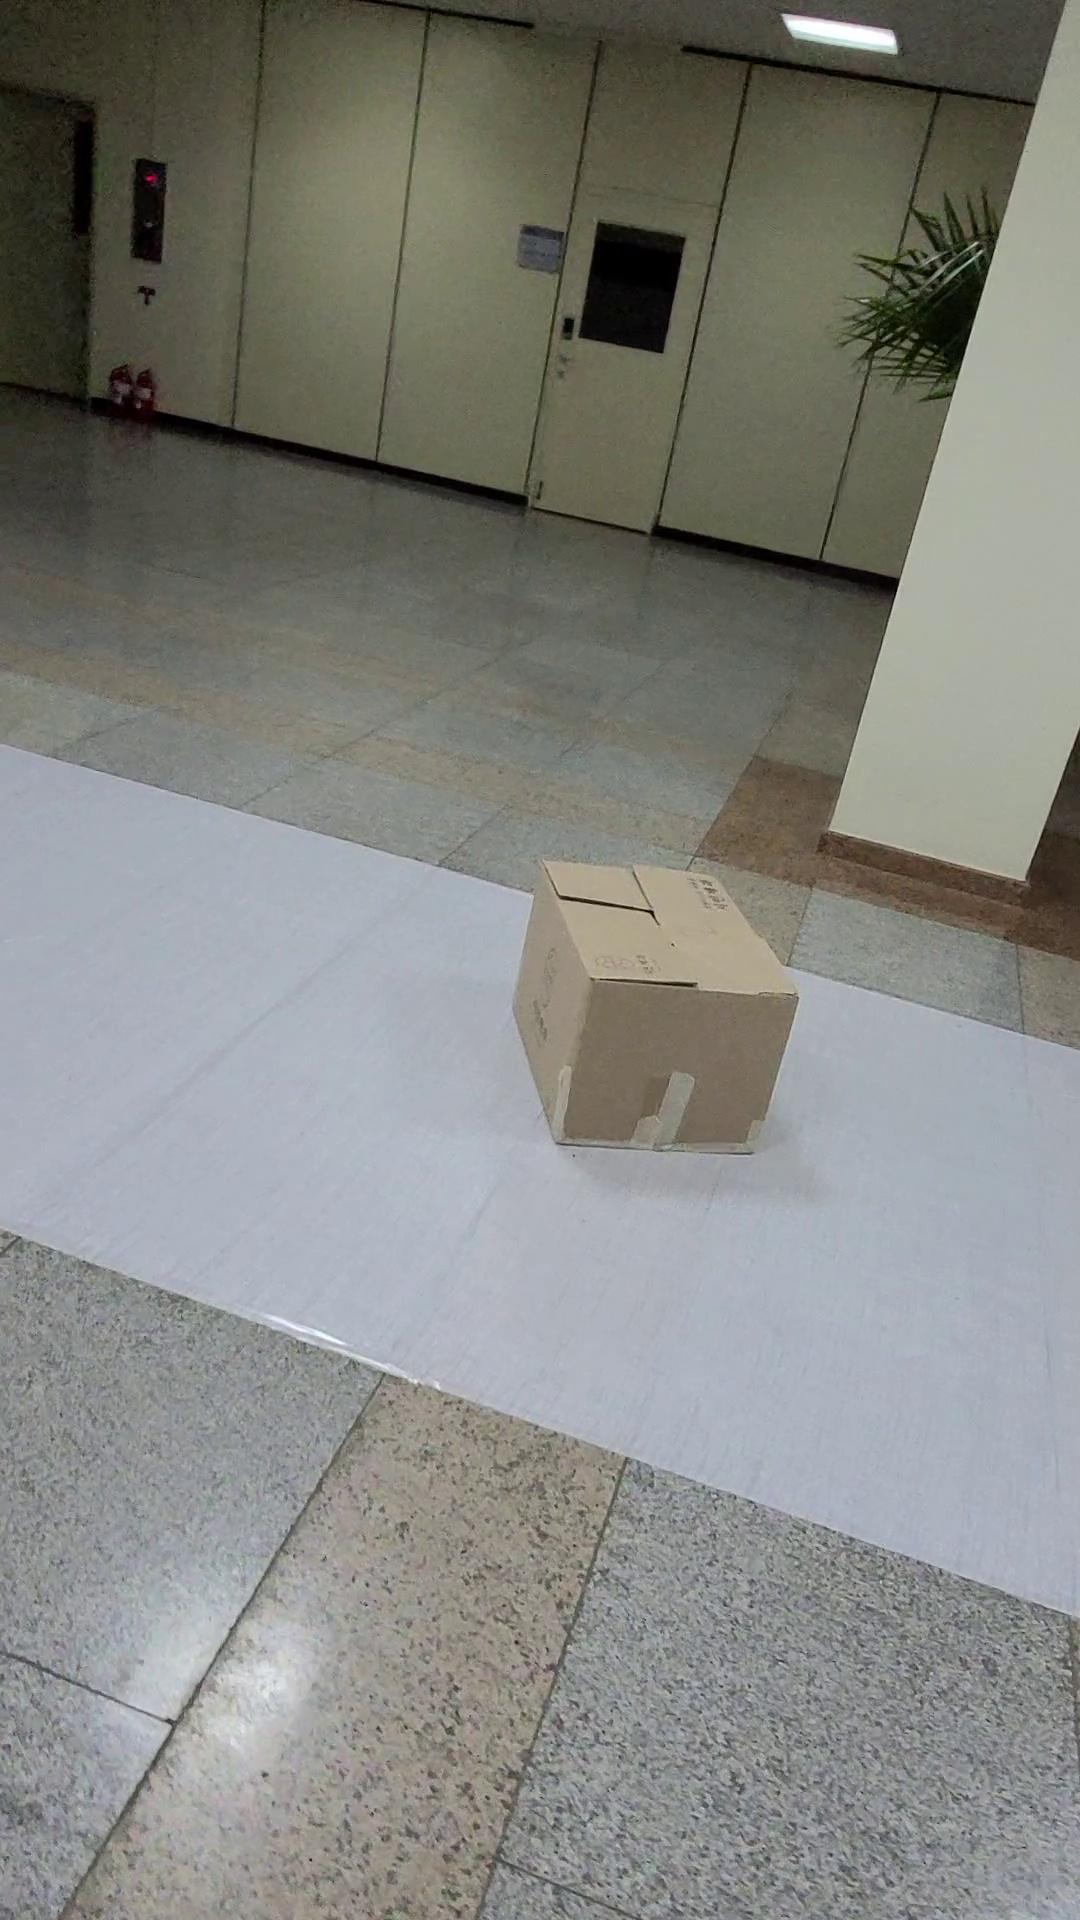Box: (501, 840, 810, 1175)
